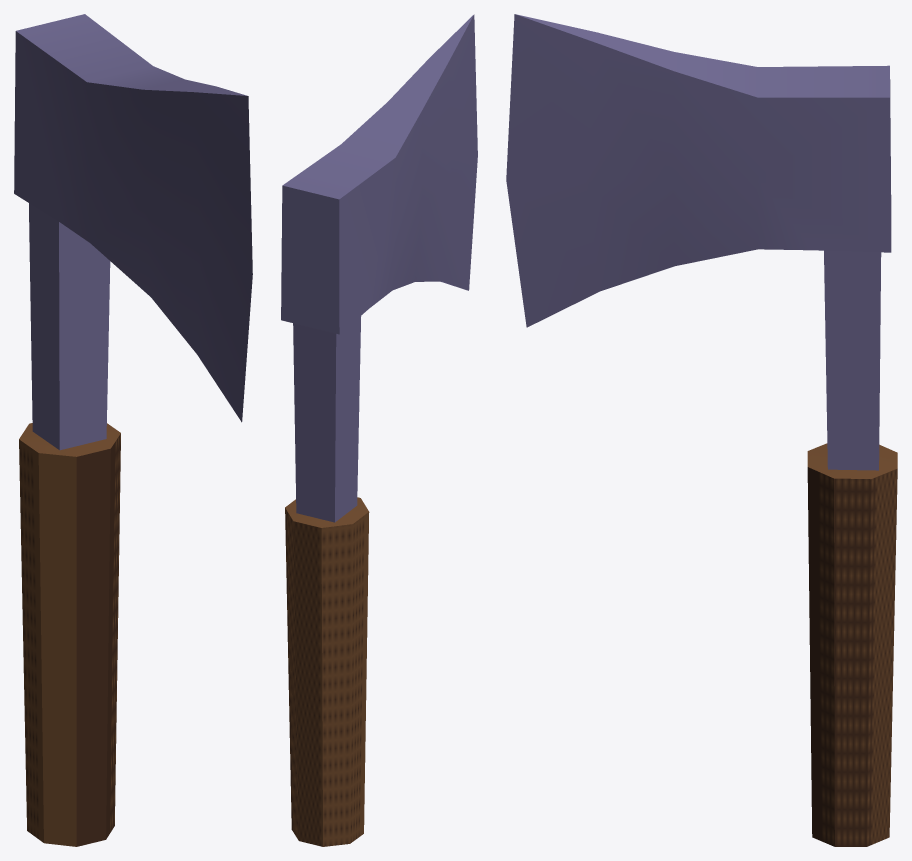
File: Hacha Metal.fbx
3 views of the same model, side by side, from view 1: azimuth 30°, elevation 25°; view 2: azimuth 150°, elevation 25°; view 3: azimuth 270°, elevation 25° (orthographic). The views are drawn at different scales.
Visible parts, largest first — view 1: Hacha Metal; view 2: Hacha Metal; view 3: Hacha Metal.
Part boxes in pixels (x1,y1,x2,y2): Hacha Metal: [14, 14, 252, 846]; Hacha Metal: [281, 14, 477, 846]; Hacha Metal: [506, 14, 897, 846].
Bounding box in the file's own units: 22.49 × 97.68 × 225.
2 materials, 1 textured.
